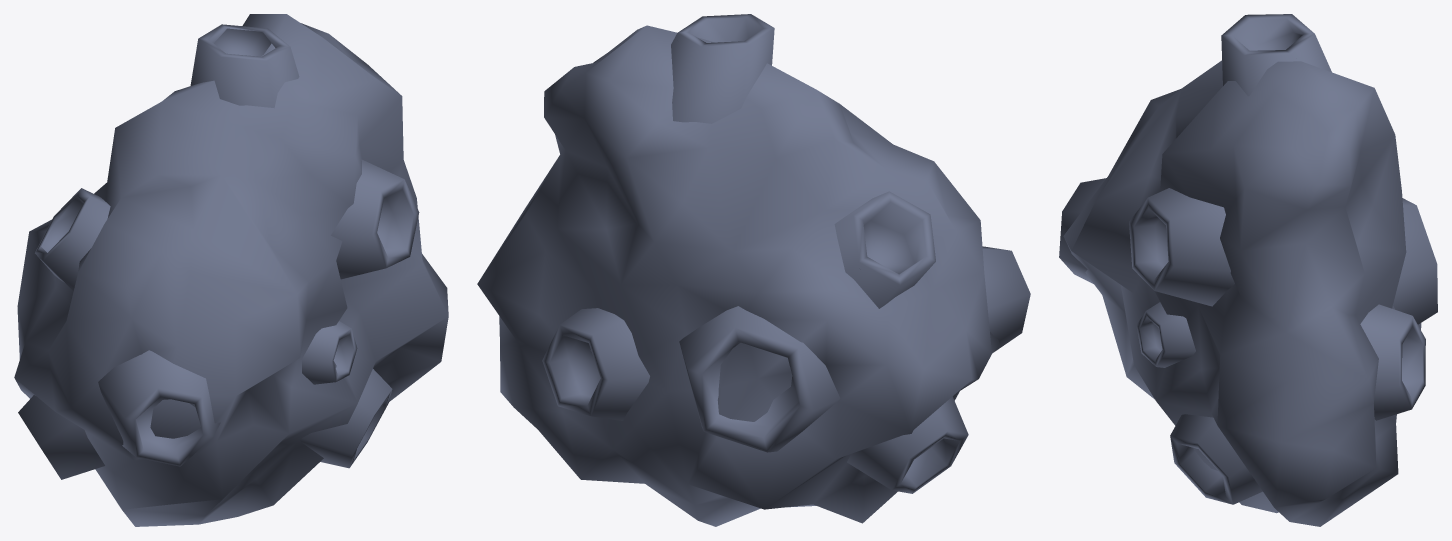
Rendered from rock2.glb.
3 views of the same model, side by side, from view 1: azimuth 30°, elevation 25°; view 2: azimuth 150°, elevation 25°; view 3: azimuth 270°, elevation 25° (orthographic). The views are drawn at different scales.
Visible parts, largest first — view 1: rock2; view 2: rock2; view 3: rock2.
Part boxes in pixels (x1=…): rock2: x1=14, y1=14, x2=448, y2=526; rock2: x1=477, y1=14, x2=1030, y2=526; rock2: x1=1059, y1=14, x2=1437, y2=526.
Size of the model in its own units: 19.87 by 20.39 by 14.6.
1 material, 1 textured.
